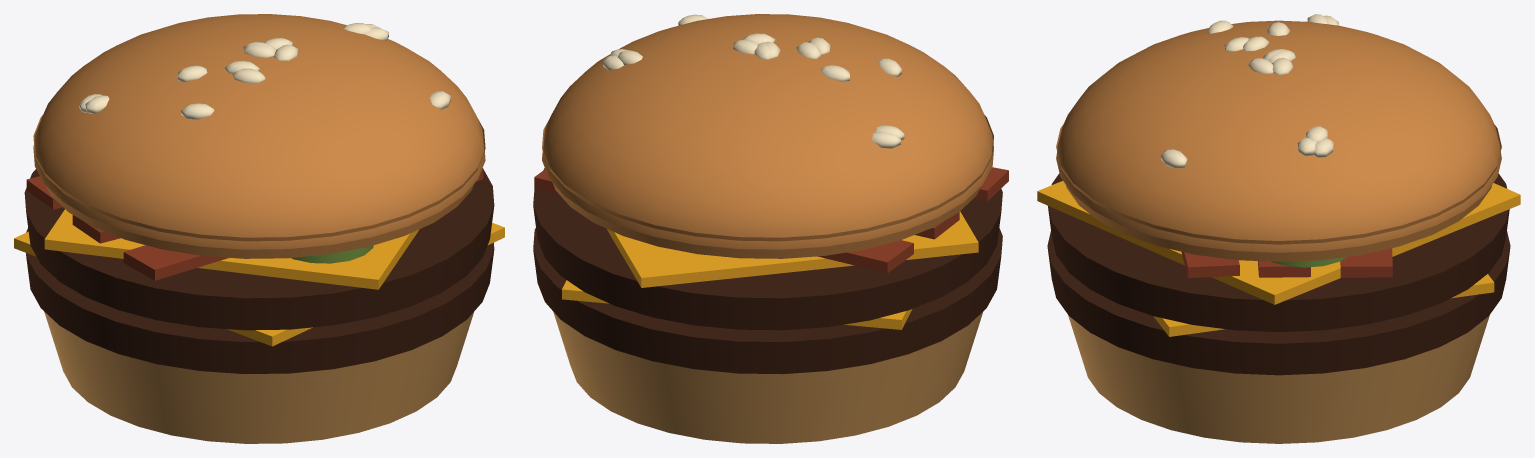
Rendered from burger-doble.glb.
3 views of the same model, side by side, from view 1: azimuth 30°, elevation 25°; view 2: azimuth 150°, elevation 25°; view 3: azimuth 270°, elevation 25° (orthographic).
Size of the model in its own units: 0.1749 by 0.124 by 0.1749.
